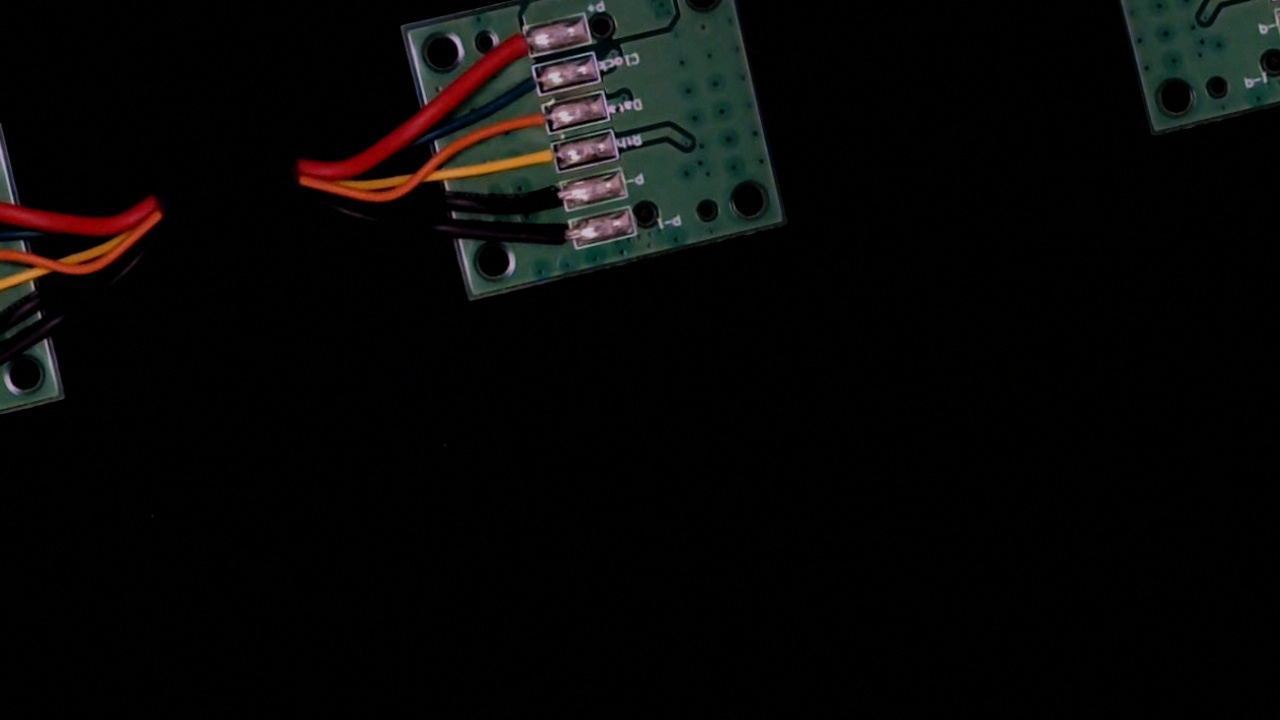Black: (515, 176, 583, 219)
Black1: (527, 217, 592, 259)
Green: (490, 62, 556, 107)
Orange: (498, 98, 566, 145)
Red: (475, 25, 546, 68)
Yellow: (500, 137, 575, 183)
